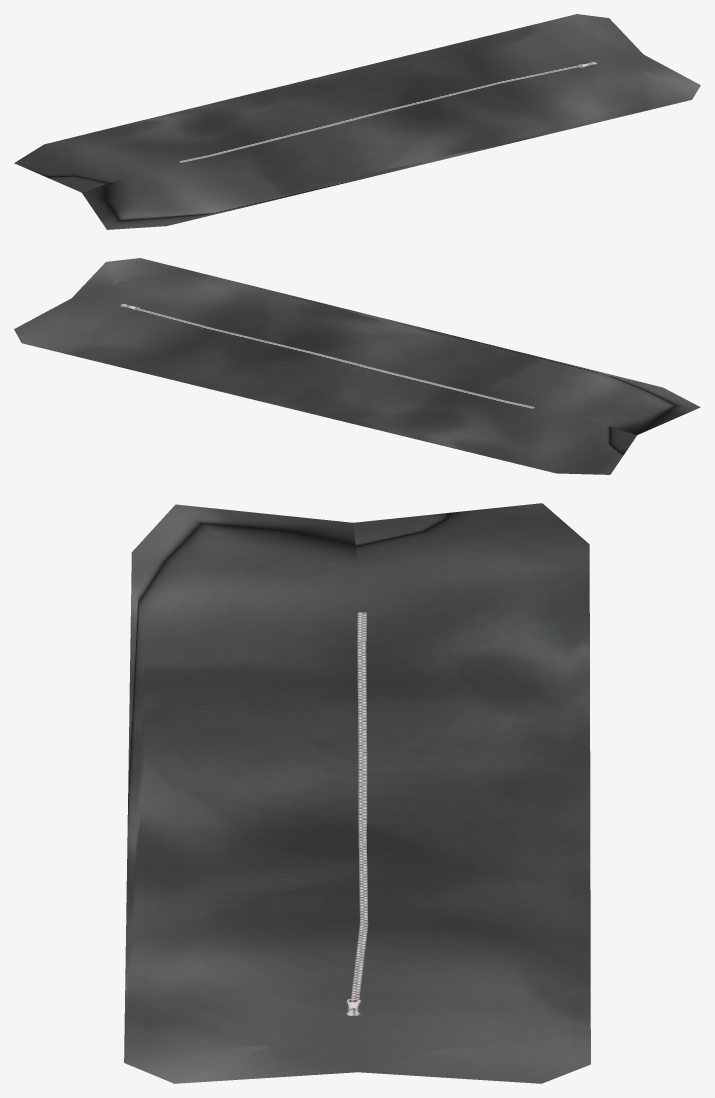
File: BodyBagEmpty.fbx
3 views of the same model, one above another, from view 1: azimuth 30°, elevation 25°; view 2: azimuth 150°, elevation 25°; view 3: azimuth 270°, elevation 25° (orthographic). The views are drawn at different scales.
Parts seen in each view (by area): view 1: Cube.001; view 2: Cube.001; view 3: Cube.001.
Boxes of the visible parts, x1,y1,x2,y2 form: Cube.001: (14, 14, 700, 229); Cube.001: (14, 258, 700, 474); Cube.001: (124, 503, 590, 1083).
Size of the model in its own units: 1.07 by 0.0124 by 0.3647.
